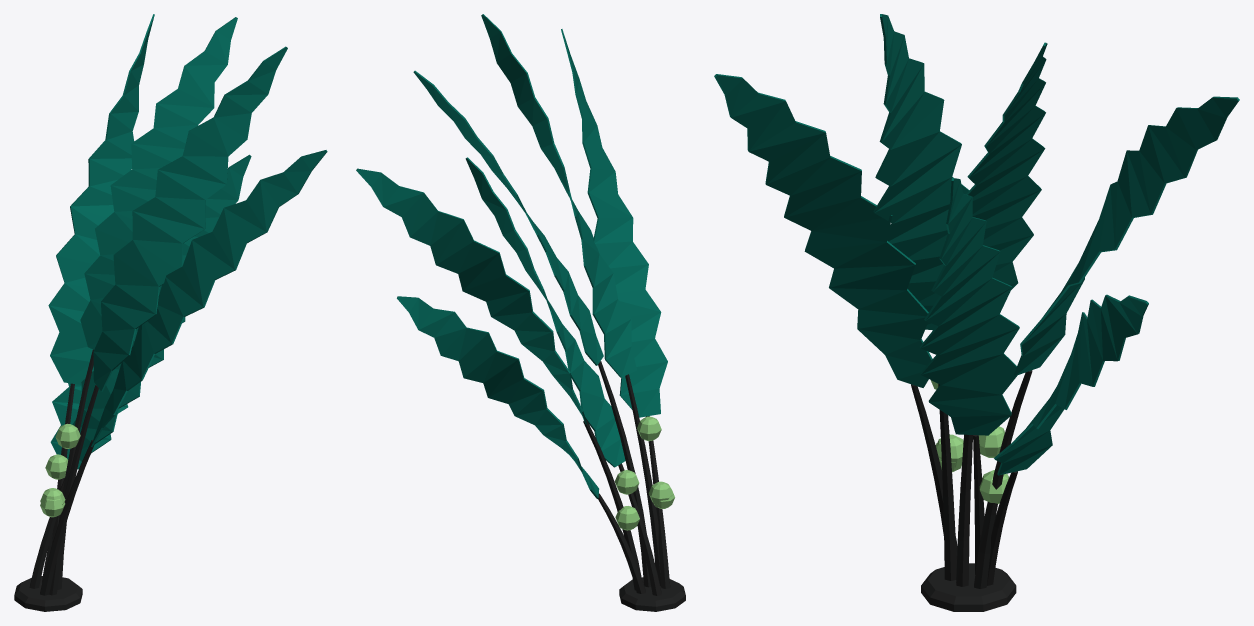
The model's file is seaweed.glb.
3 renders of one model, left to right at view 1: azimuth 30°, elevation 25°; view 2: azimuth 150°, elevation 25°; view 3: azimuth 270°, elevation 25°, orthographic. The views are drawn at different scales.
Parts seen in each view (by area): view 1: Seaweed; view 2: Seaweed; view 3: Seaweed.
Part boxes in pixels (<box>): Seaweed: <box>14,14,327,611</box>; Seaweed: <box>356,14,685,611</box>; Seaweed: <box>714,14,1239,611</box>.
Bounding box in the file's own units: 0.2438 × 0.4966 × 0.3305.
